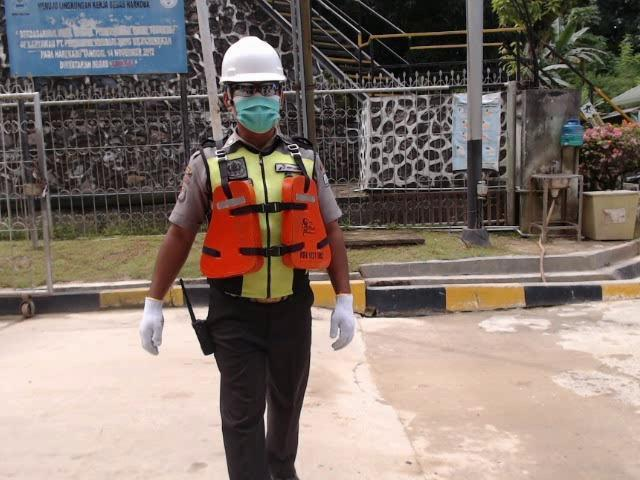vest: (200, 178, 336, 283)
